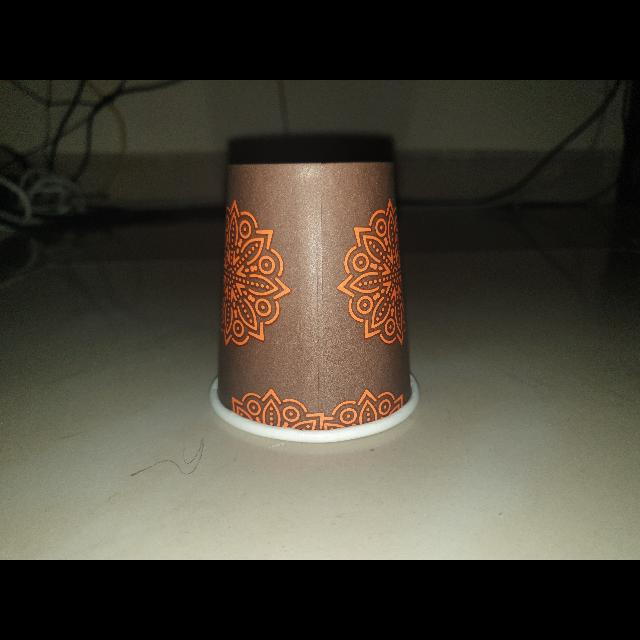trash: (211, 156, 421, 444)
